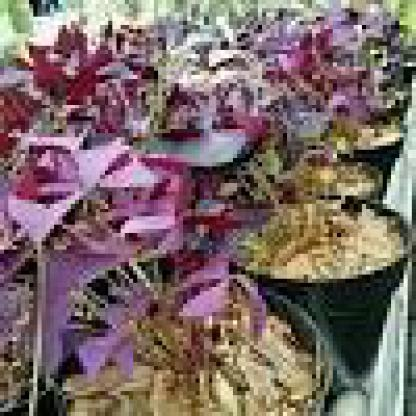Kupu-Kupu: (72, 284, 163, 371), (180, 255, 263, 330)
